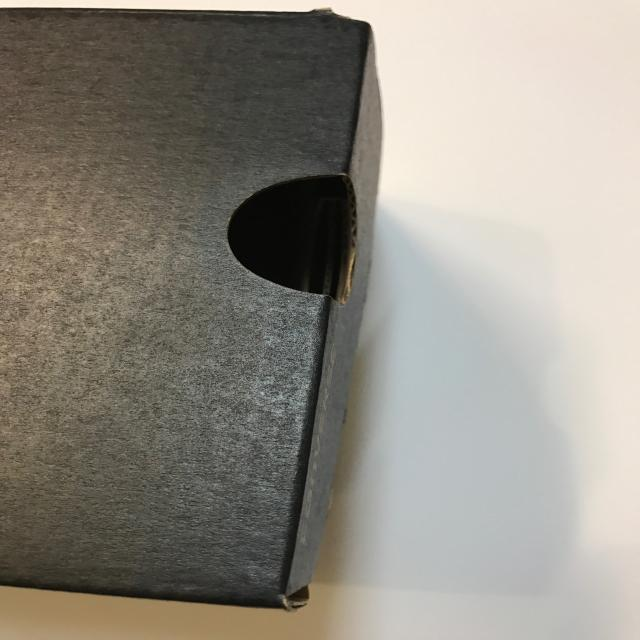cardboard: (1, 6, 383, 611)
